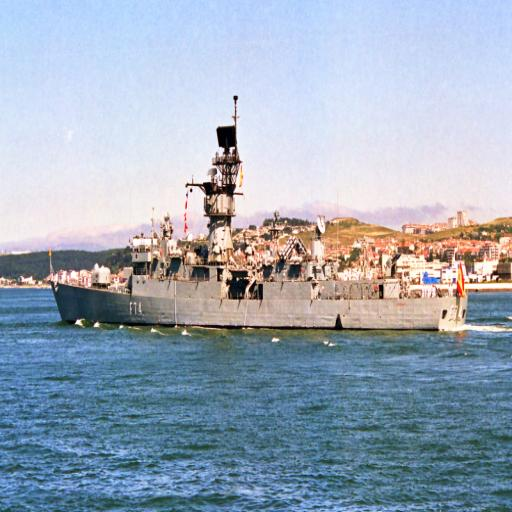Fragata: (46, 90, 471, 340)
